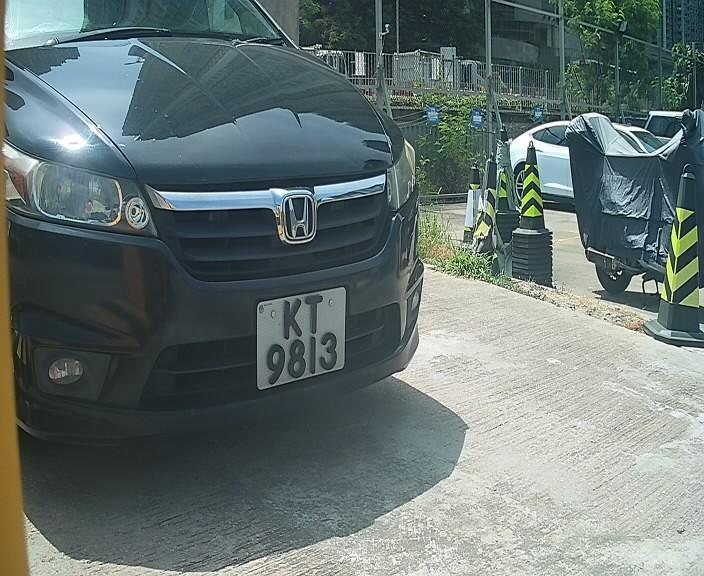License Plate: (243, 276, 349, 402)
